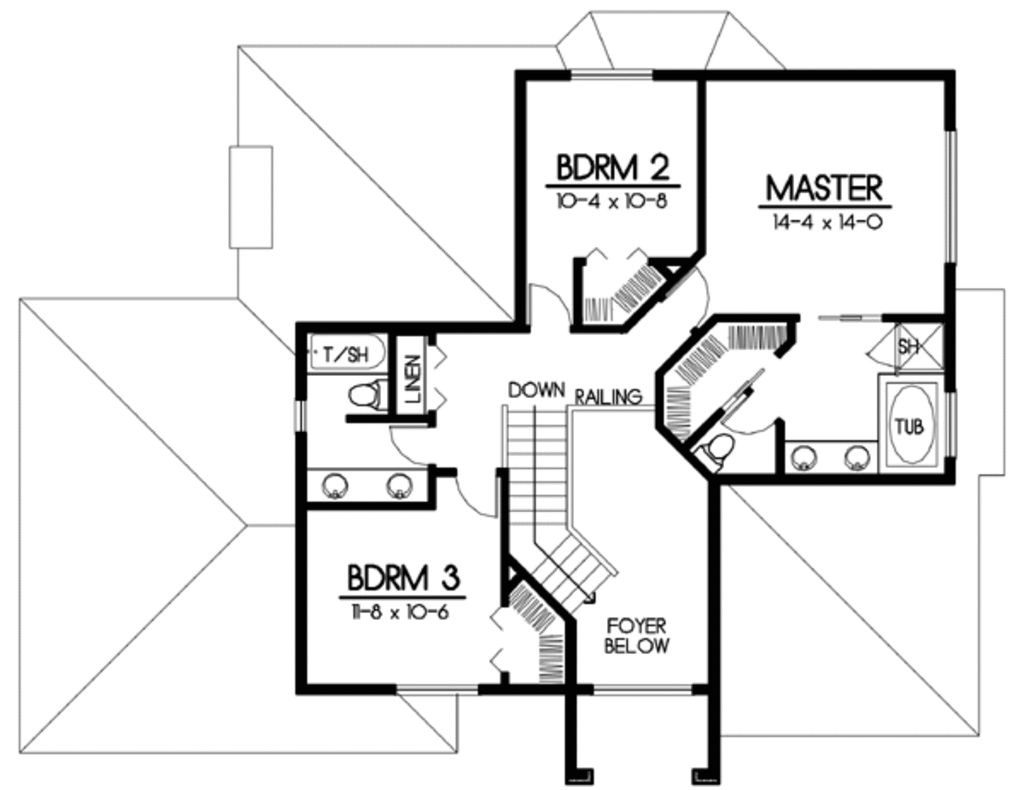door: (660, 259, 710, 336), (444, 466, 501, 524), (523, 281, 581, 335), (714, 387, 781, 433), (385, 424, 441, 467)
large_sink: (691, 426, 736, 478), (349, 380, 388, 413)
small_sink: (317, 466, 436, 503), (786, 440, 877, 473)
stairs: (501, 397, 623, 623)
tub: (879, 378, 949, 474), (294, 328, 396, 373)
window: (942, 129, 962, 263), (392, 675, 488, 700), (569, 58, 653, 84), (592, 679, 692, 697), (294, 397, 309, 435)
